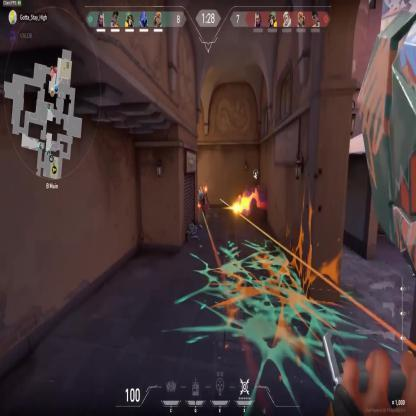enemy: (198, 186, 204, 214), (203, 184, 209, 210)
enemy_head: (204, 182, 208, 186), (200, 186, 202, 192)
